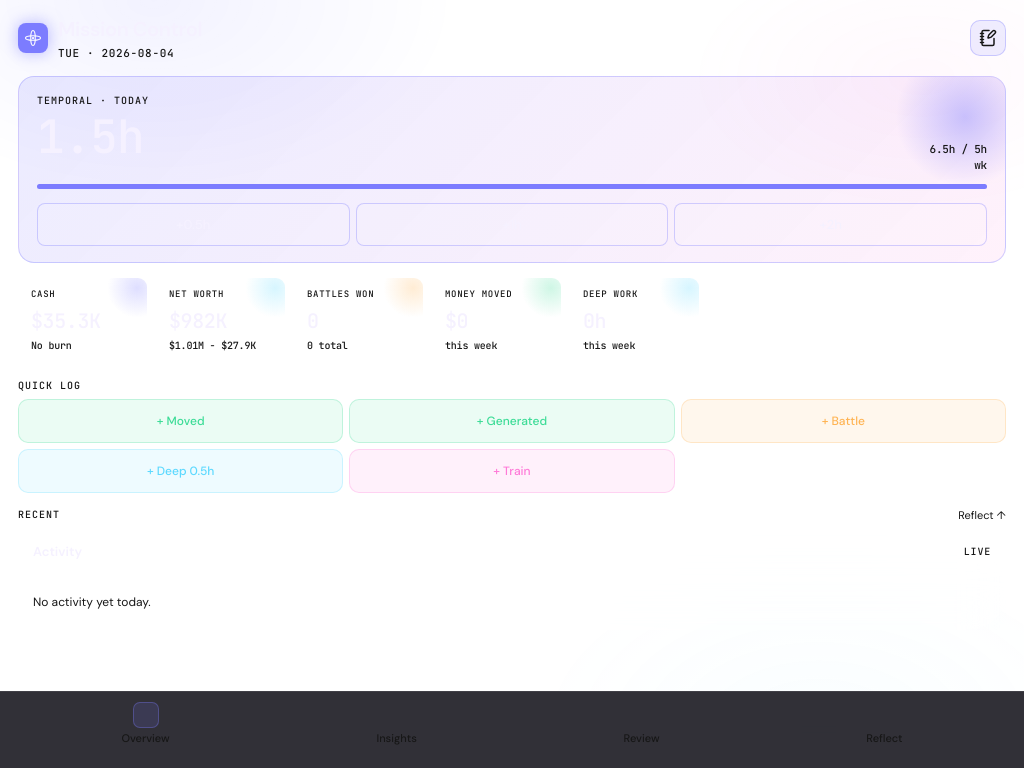
it: <MobileLayout /> › quick log + Generated opens the amount editor (no hardcoded log)
The width and height of the screenshot is (1024, 768).
Click the button with test id "mobile-quick-generated": {"x": 512, "y": 420} [349,398,675,442]
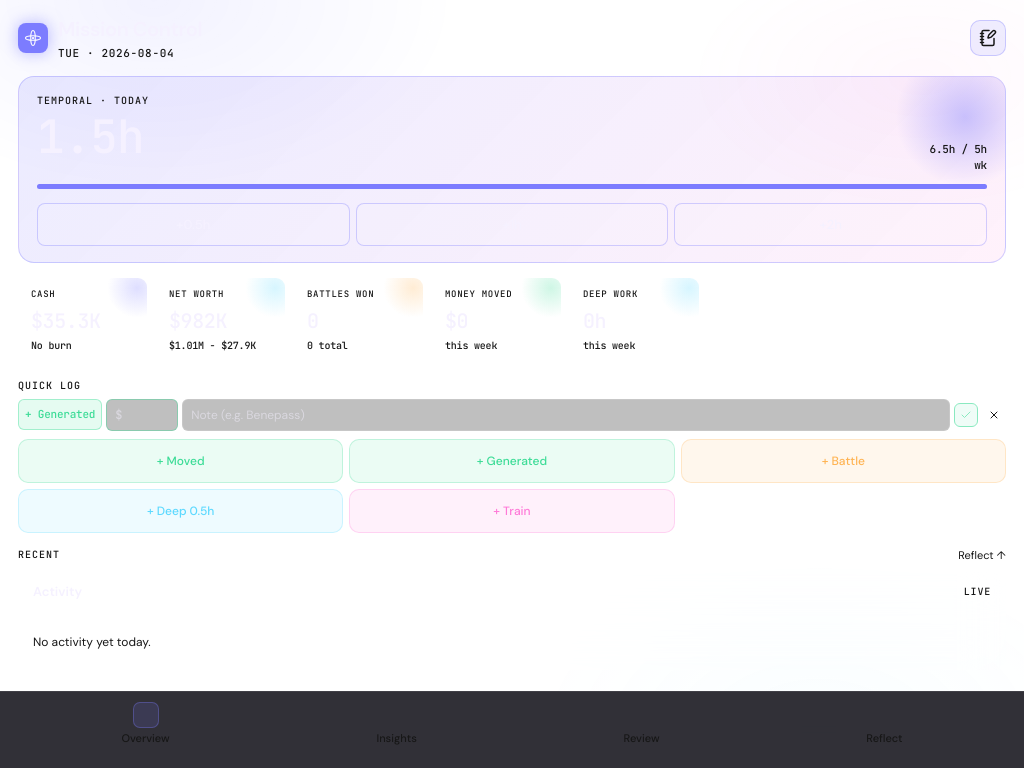
Expected: the element with test id "mobile-quick-amount-editor-wrap" is shown, [18,398,1006,430]
